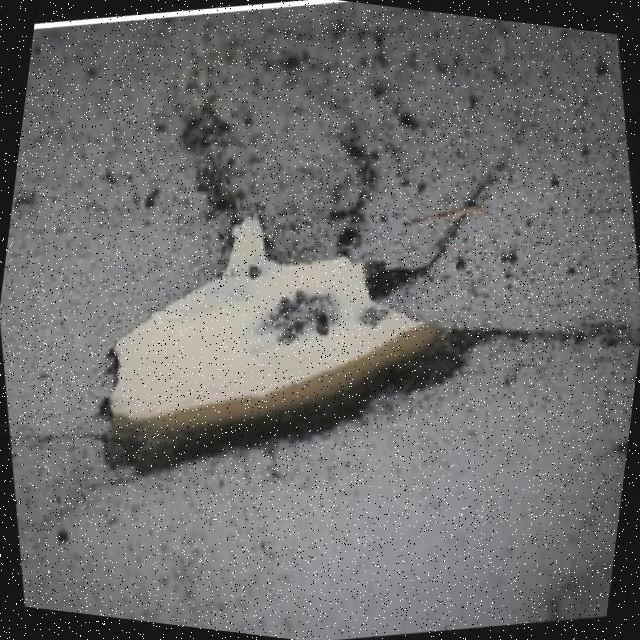Pothole: (103, 216, 498, 476)
